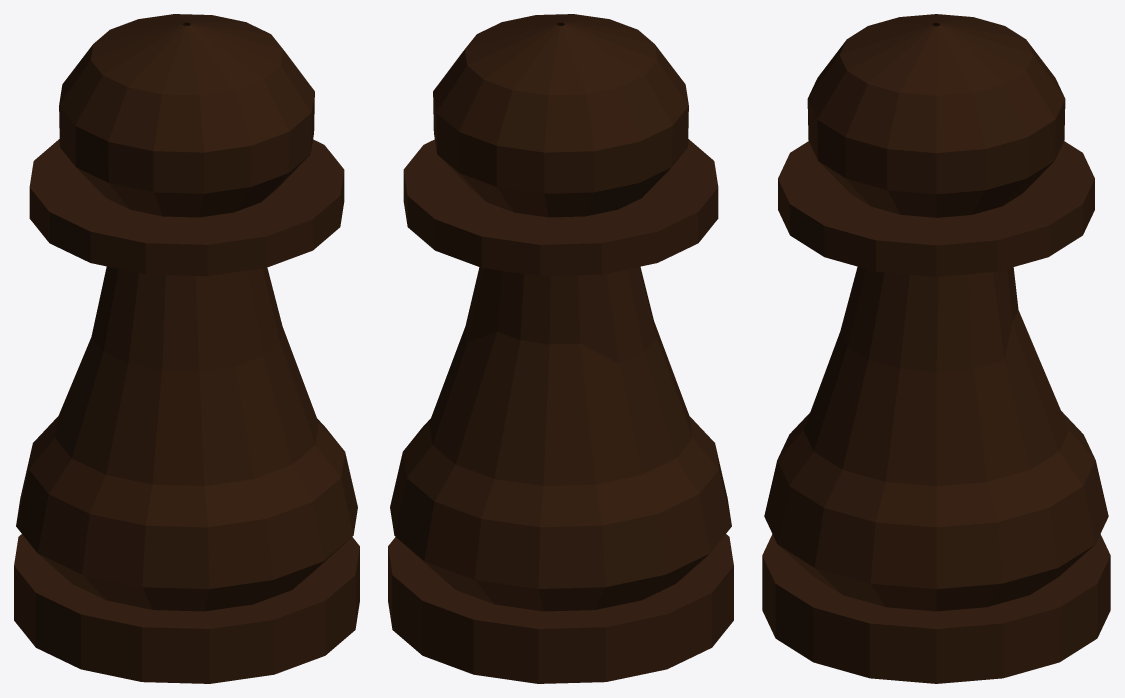
The model's file is RumpusChessPiece1.fbx.
3 renders of one model, left to right at view 1: azimuth 30°, elevation 25°; view 2: azimuth 150°, elevation 25°; view 3: azimuth 270°, elevation 25°, orthographic.
Visible parts, largest first — view 1: Plane.007; view 2: Plane.007; view 3: Plane.007.
Part boxes in pixels (x1,y1,x2,y2): Plane.007: (14, 14, 359, 683); Plane.007: (388, 14, 733, 683); Plane.007: (762, 14, 1110, 683).
Bounding box in the file's own units: 32.92 × 61.07 × 32.92.
